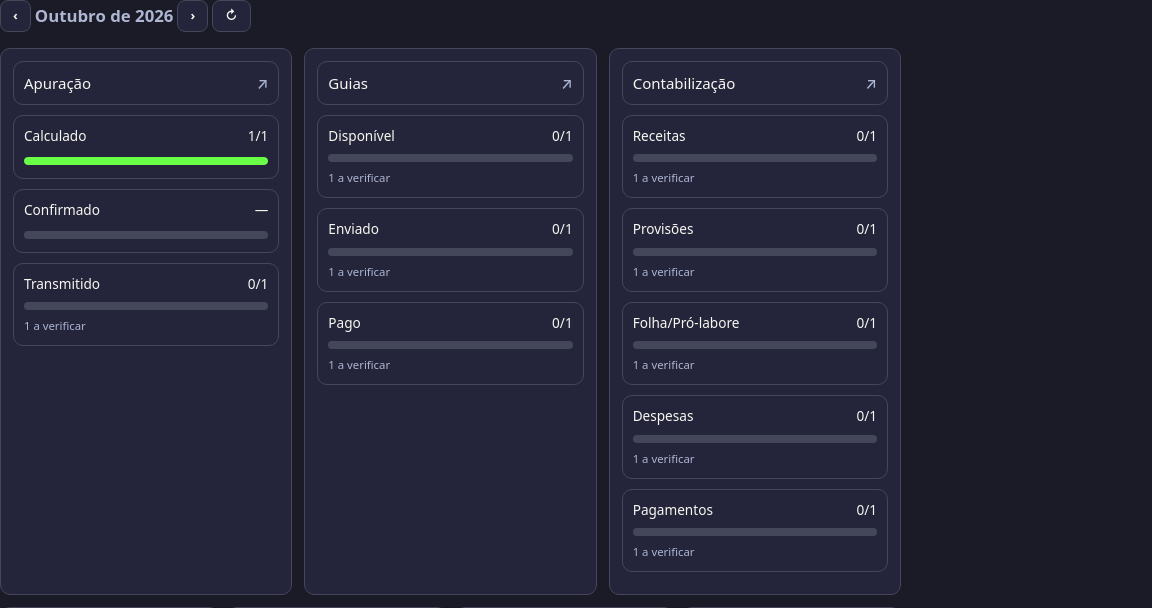
Test case: revisão técnica vai ao detalhe, preservando bloqueio e mensagem visíveis na linha
Click the button with aria-label "Calculado 1/1 empresas" at (55, 136), box x1=13 y1=115 x2=279 y2=179
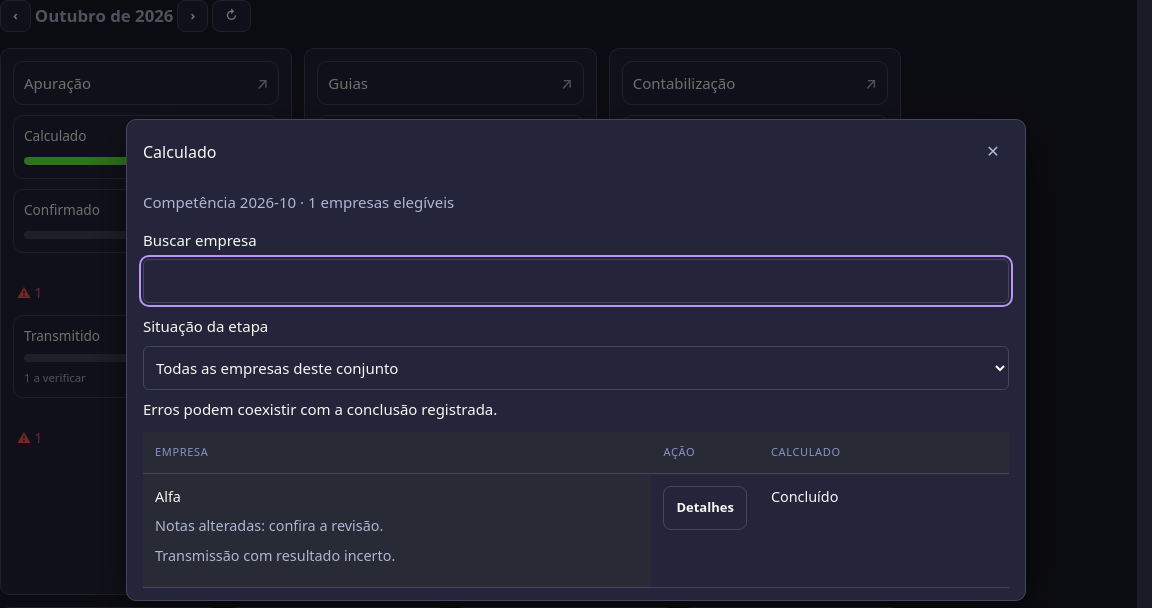
Expected: the text "Transmissão com resultado incerto." is shown, x1=155 y1=546 x2=395 y2=565
Click the button with aria-label "Ver evidências de Alfa" at (705, 508), box x1=663 y1=486 x2=747 y2=530
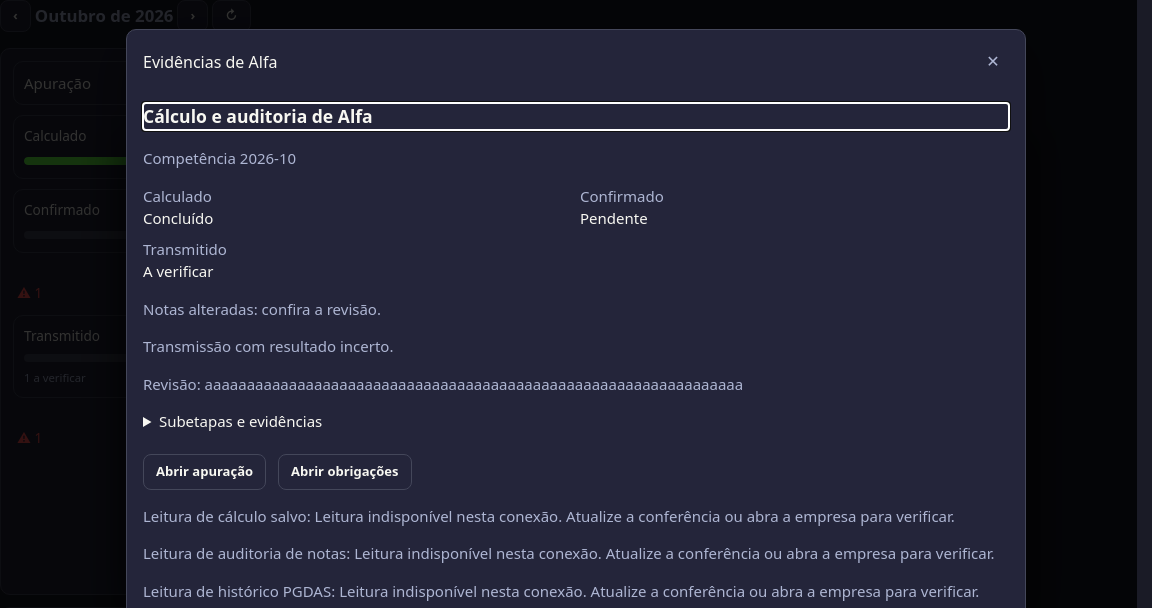
Expected: the text "Leitura de cálculo salvo:" is shown, x1=143 y1=505 x2=1009 y2=527
Expected: the text "Notas alteradas: confira a revisão." is shown, x1=143 y1=299 x2=381 y2=319
